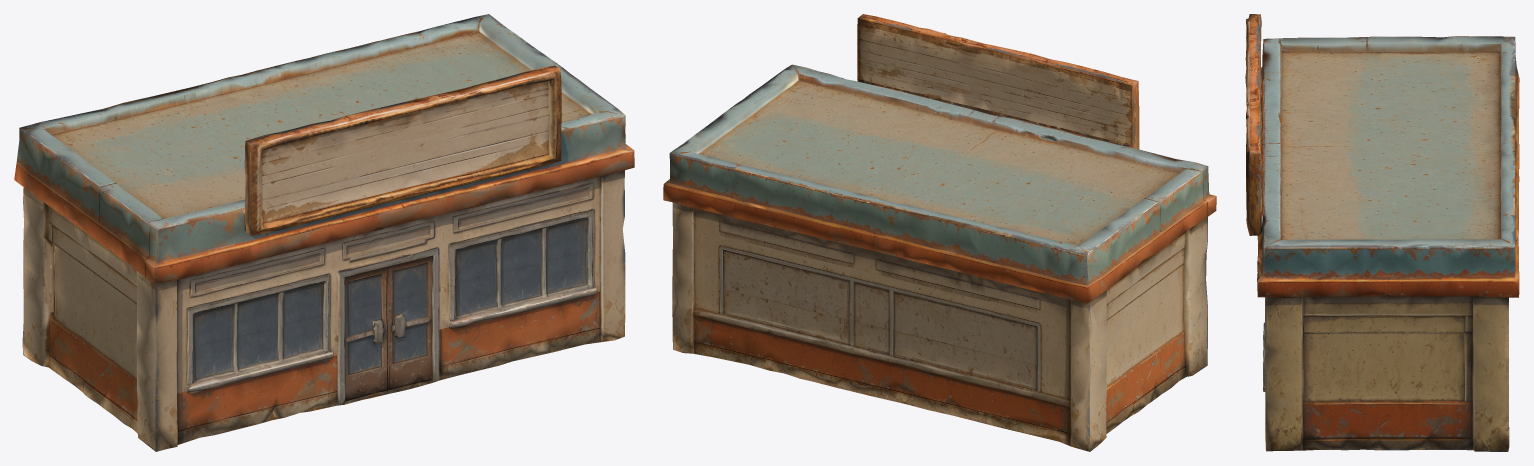
File: Old Shop Building_final.fbx
3 renders of one model, left to right at view 1: azimuth 30°, elevation 25°; view 2: azimuth 150°, elevation 25°; view 3: azimuth 270°, elevation 25°, orthographic. The views are drawn at different scales.
Visible parts, largest first — view 1: texture_mapping; view 2: texture_mapping; view 3: texture_mapping.
Part boxes in pixels (x1=…): texture_mapping: x1=14, y1=14, x2=634, y2=451; texture_mapping: x1=663, y1=14, x2=1216, y2=451; texture_mapping: x1=1245, y1=14, x2=1519, y2=451.
Size of the model in its own units: 0.9992 by 0.5394 by 0.5862.
1 material, 1 textured.
